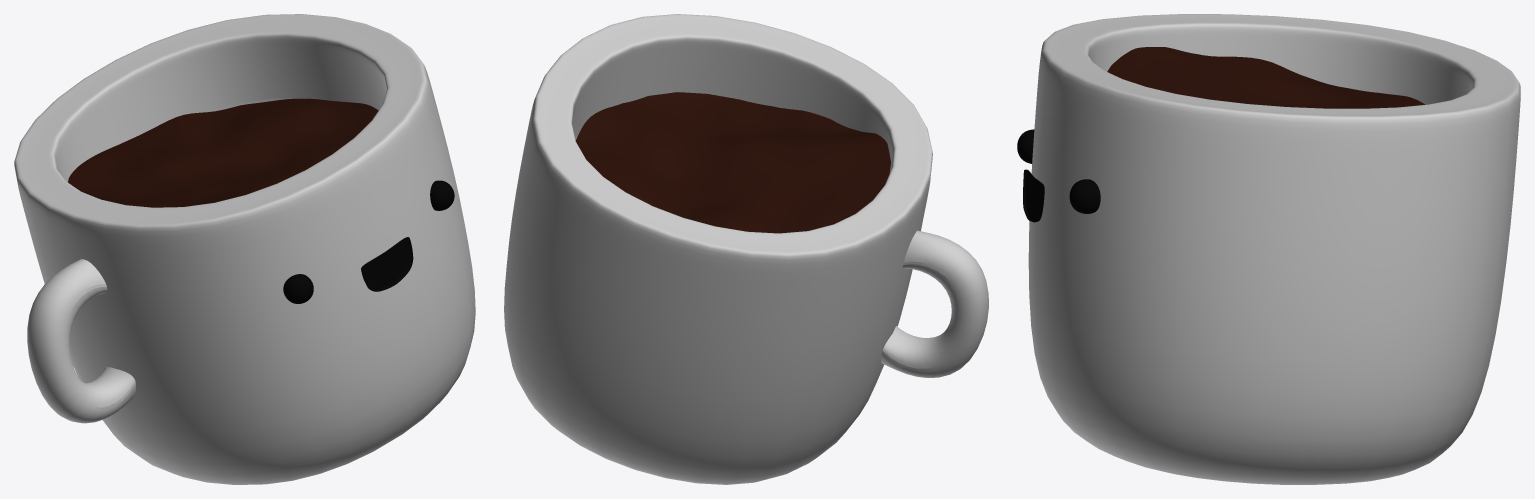
File: mug.obj
The picture shows the model from 3 angles, left to right: view 1: azimuth 30°, elevation 25°; view 2: azimuth 150°, elevation 25°; view 3: azimuth 270°, elevation 25°; orthographic projection. The views are drawn at different scales.
Visible parts, largest first — view 1: Cube, Plane, Cube.001, Cube.004, Cube.002, Cube.003; view 2: Cube, Plane, Cube.001; view 3: Cube, Plane, Cube.004, Cube.003.
Boxes of the visible parts, x1,y1,x2,y2 form: Cube: (14,14,475,484); Plane: (68,98,378,207); Cube.001: (27,259,135,423); Cube.004: (361,237,413,291); Cube.002: (283,274,313,303); Cube.003: (430,180,454,210); Cube: (504,14,932,484); Plane: (575,92,890,233); Cube.001: (881,230,988,377); Cube: (1028,14,1520,484); Plane: (1107,47,1425,108); Cube.004: (1023,169,1044,222); Cube.003: (1069,179,1100,213).
Size of the model in its own units: 2.57 by 2.09 by 2.2.
